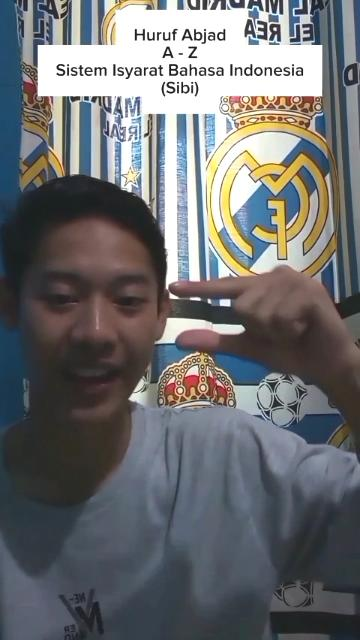G: (163, 262, 345, 378)
